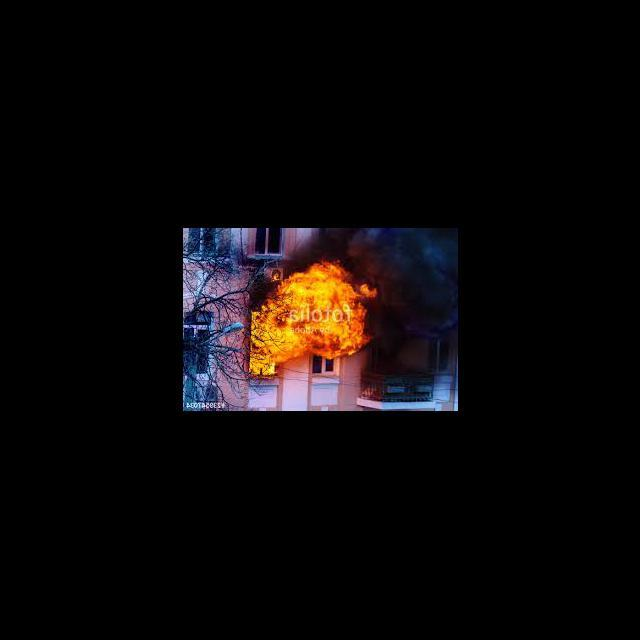Fire: (246, 257, 380, 376)
Smoke: (383, 229, 458, 340), (318, 229, 384, 255), (382, 342, 434, 373)
